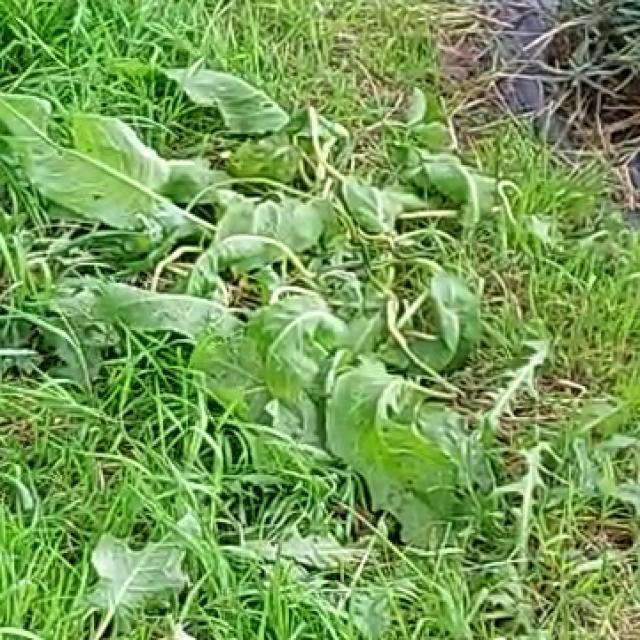organic waste: (66, 71, 489, 475)
